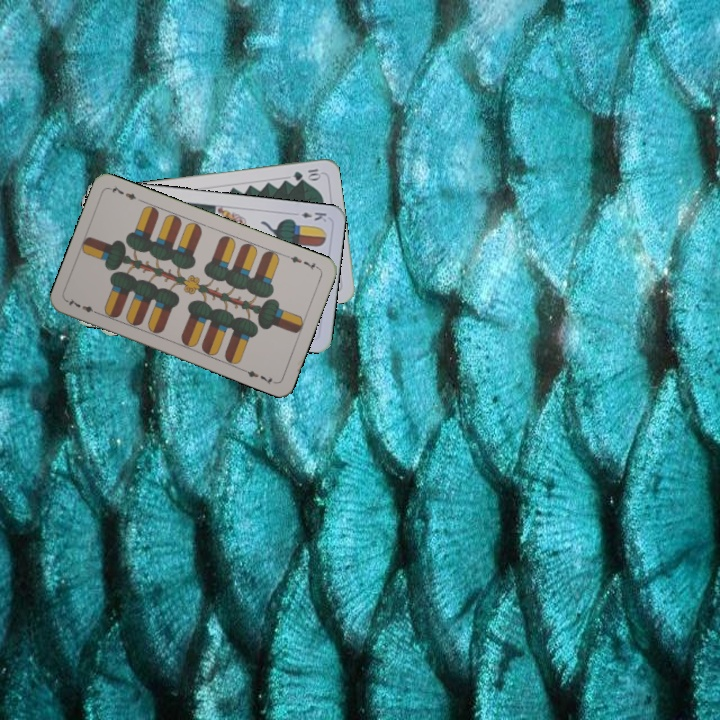E7: (63, 294, 102, 317), (283, 251, 322, 273)
EK: (297, 208, 329, 225)
G10: (289, 165, 324, 183)
